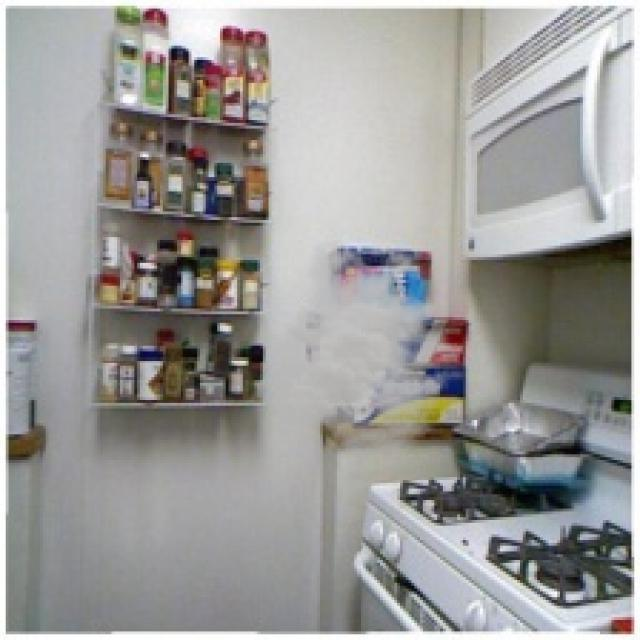Smoke: (257, 237, 474, 460)
